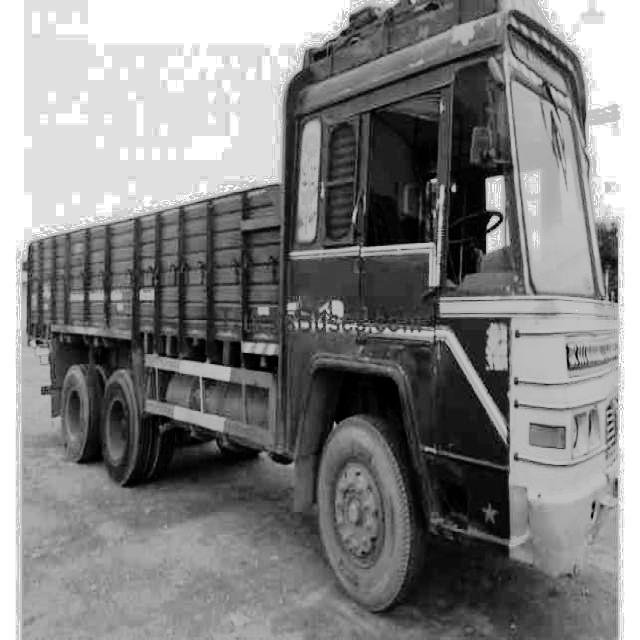HCV: (23, 7, 618, 610)
